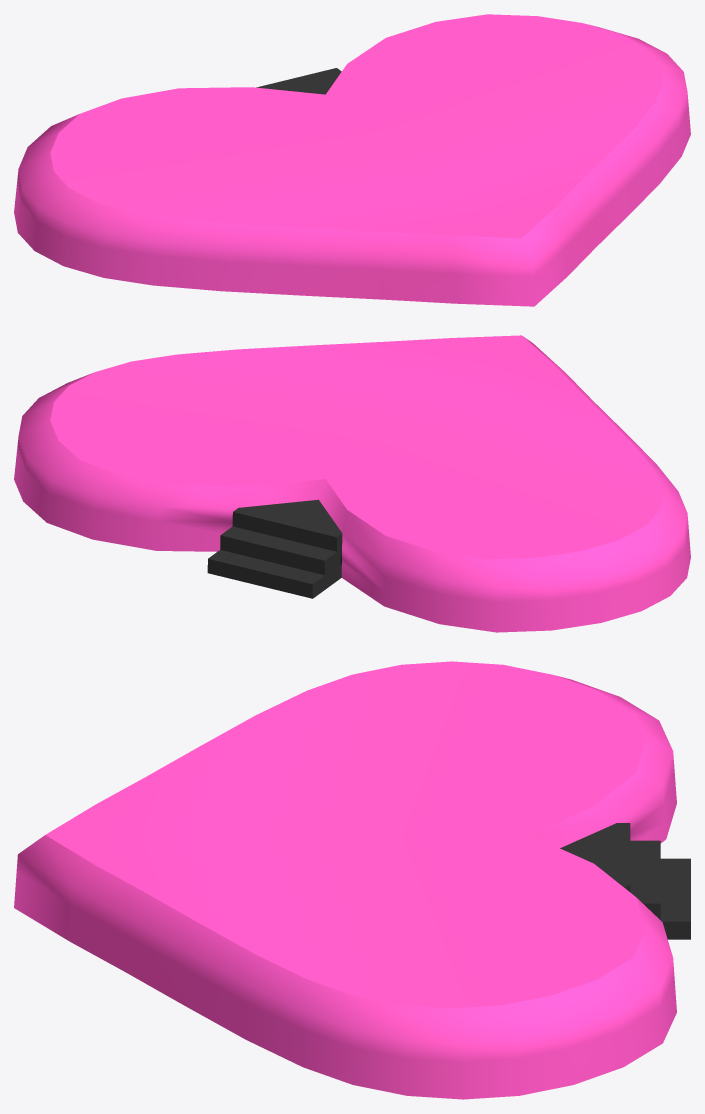
The model's file is StageHeart.glb.
3 renders of one model, top to bottom at view 1: azimuth 30°, elevation 25°; view 2: azimuth 150°, elevation 25°; view 3: azimuth 270°, elevation 25°, orthographic. The views are drawn at different scales.
Visible parts, largest first — view 1: StageHeart; view 2: StageHeart; view 3: StageHeart.
Part boxes in pixels (bbox=[...]): StageHeart: bbox=[14, 14, 690, 306]; StageHeart: bbox=[14, 335, 690, 632]; StageHeart: bbox=[14, 661, 690, 1099].
Bounding box in the file's own units: 11.97 × 1.06 × 8.94.
Materials: 1 (1 with a texture image).
